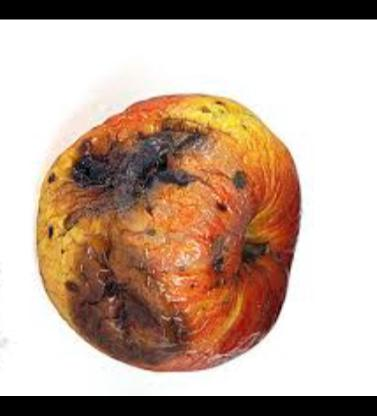defect: (9, 101, 292, 376)
